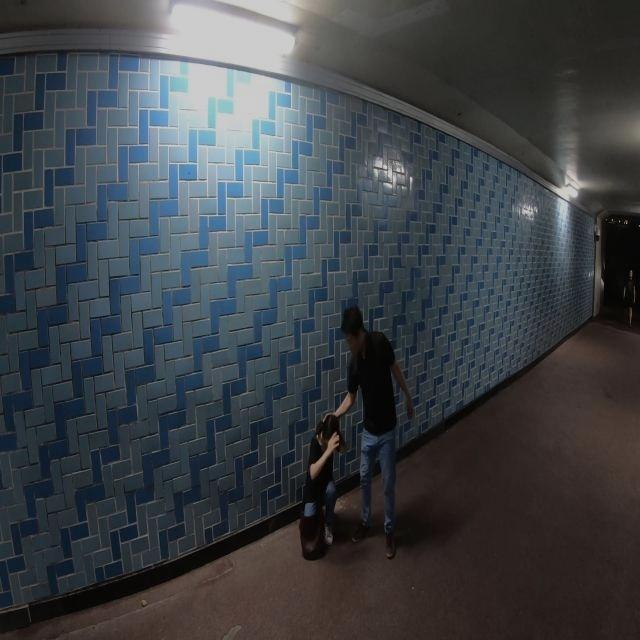fight: (302, 303, 407, 566)
